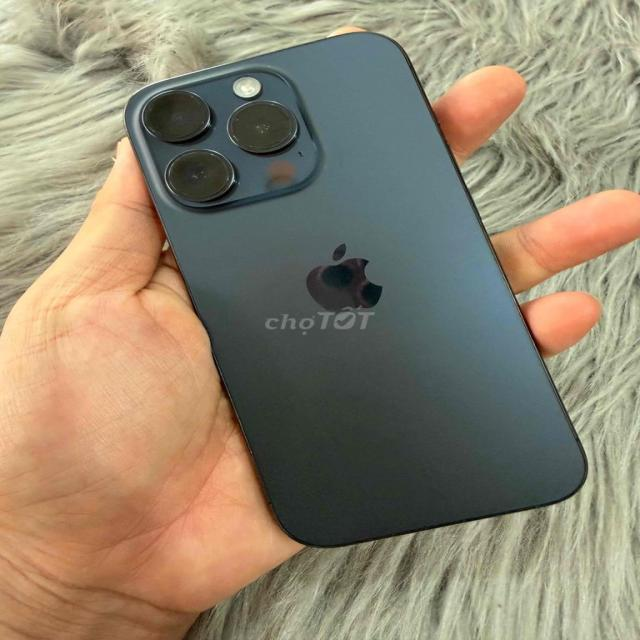gen_15: (107, 10, 604, 544)
